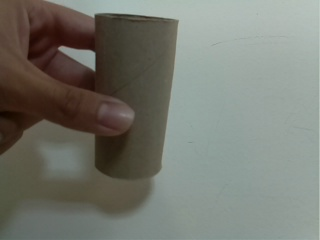rollo papel: (89, 13, 180, 182)
